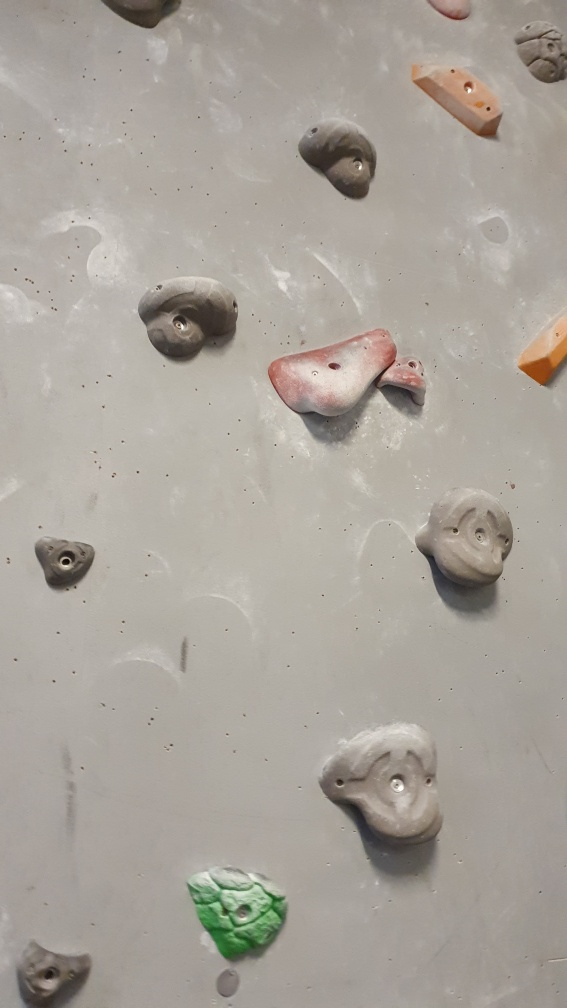Crimp: (29, 528, 99, 591)
Hand Start: (213, 962, 253, 1007)
Jug: (315, 719, 448, 852), (412, 484, 514, 594), (136, 272, 243, 364), (294, 118, 383, 199)
Pinch: (409, 59, 504, 144), (514, 306, 567, 388)
